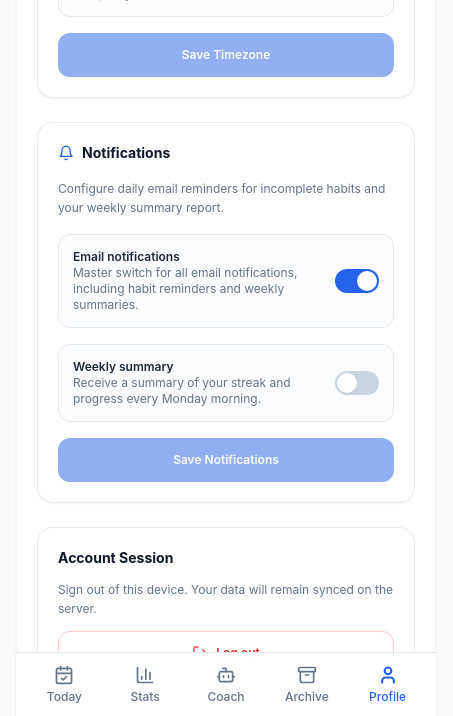
ProfilePage Notifications Section › displays error message if updateProfile fails
(page scrolled)
Click the 3rd switch named "weekly summary": (357, 382) x1=335 y1=370 x2=379 y2=394
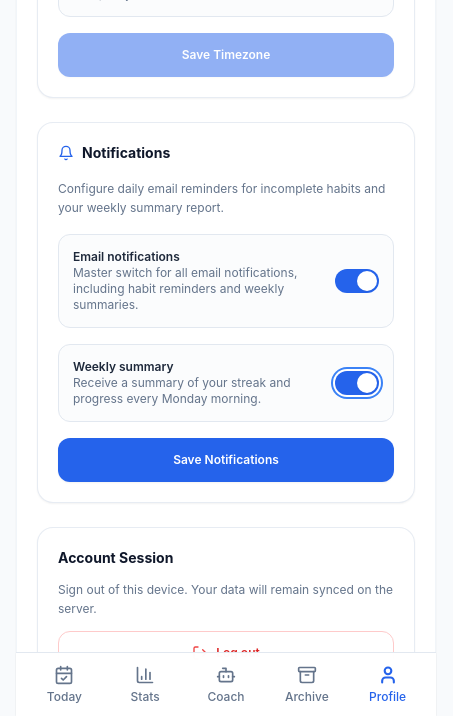
Click the button "Save Notifications": (226, 460) x1=58 y1=438 x2=394 y2=482
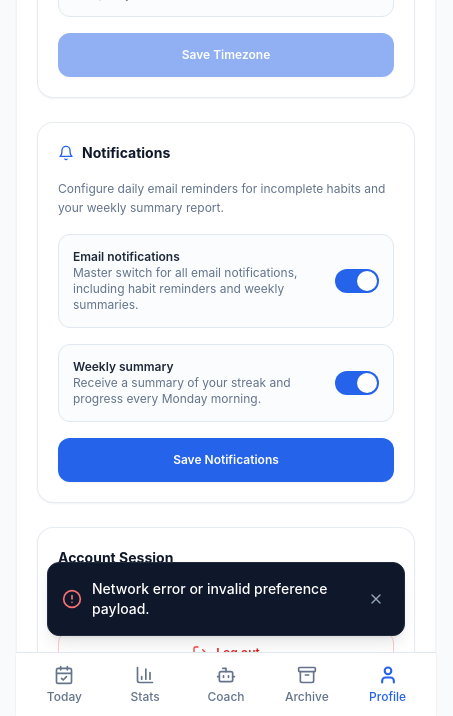
Expected: the text "Network error or invalid preference payload." is shown, x1=92 y1=579 x2=342 y2=619
